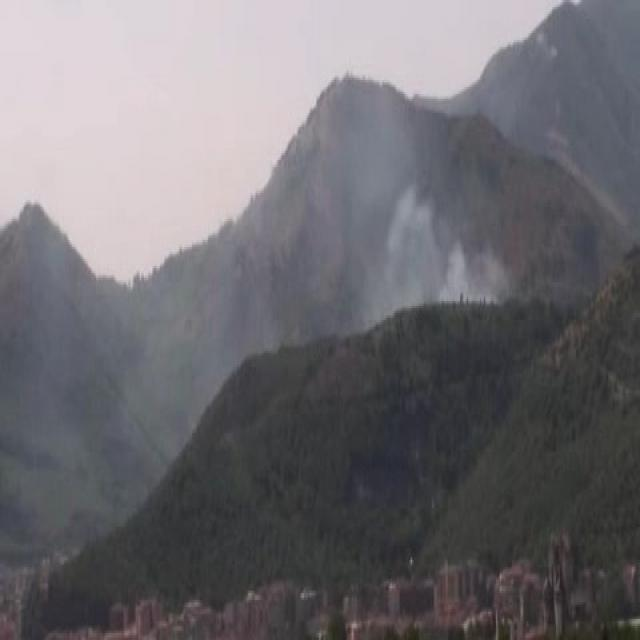smoke: (293, 123, 508, 301)
